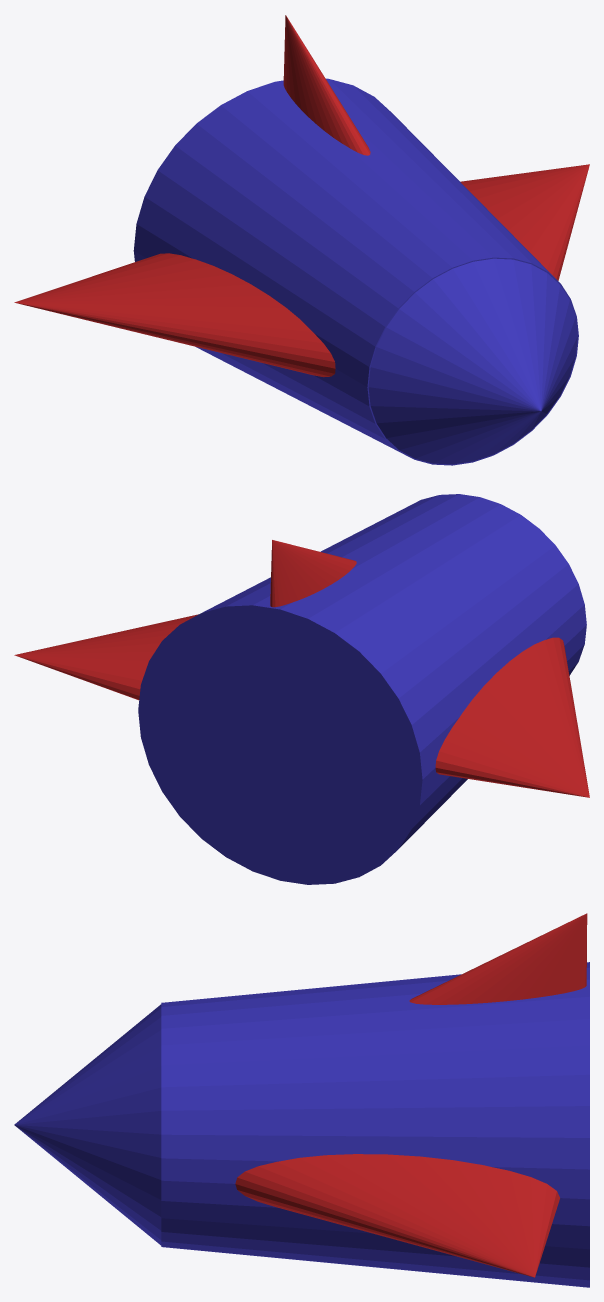
File: airPlane.obj
3 views of the same model, one above another, from view 1: azimuth 30°, elevation 25°; view 2: azimuth 150°, elevation 25°; view 3: azimuth 270°, elevation 25° (orthographic). The views are drawn at different scales.
Parts seen in each view (by area): view 1: 円錐.003; view 2: 円錐.003; view 3: 円錐.003.
Boxes of the visible parts, x1,y1,x2,y2 form: 円錐.003: (14,15,589,465); 円錐.003: (14,494,589,884); 円錐.003: (14,913,589,1287).
Size of the model in its own units: 1.4 by 0.779 by 1.12.
1 material, 1 textured.
